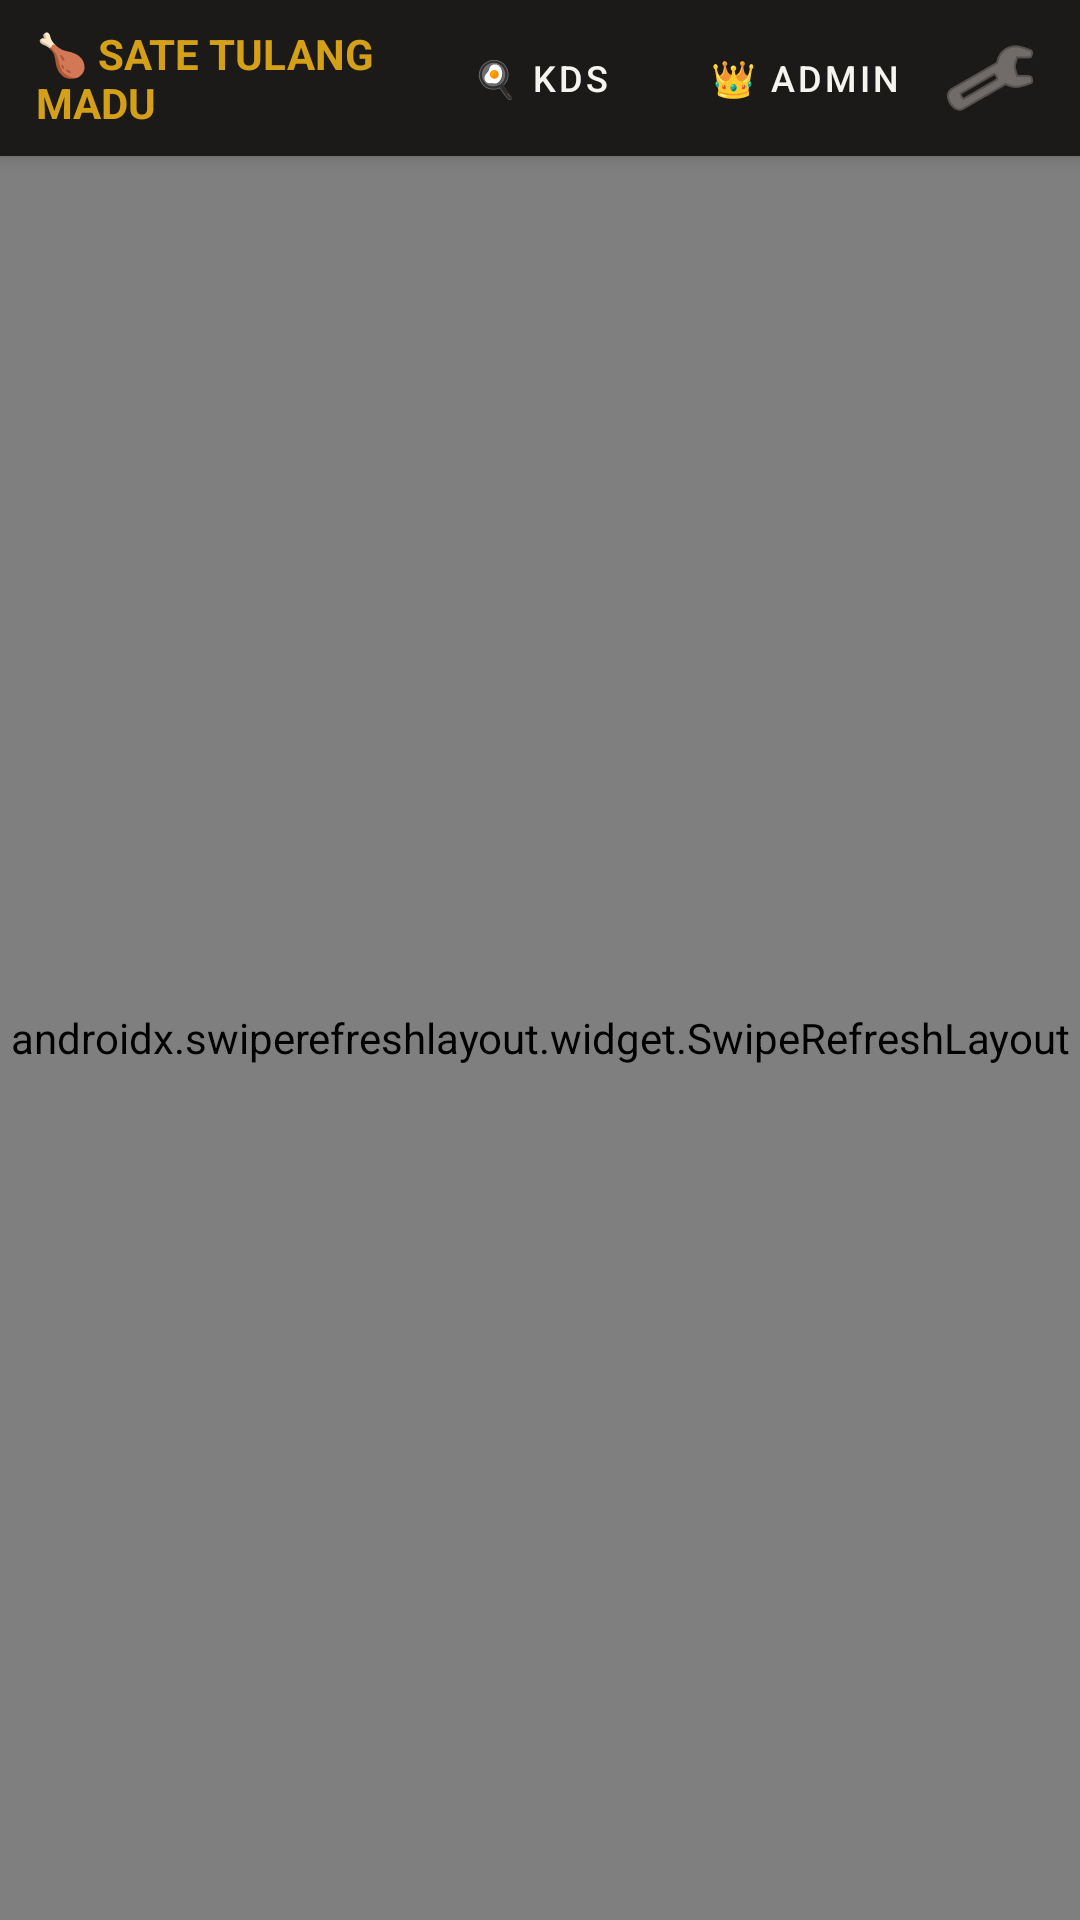

Screen size 1080 × 1920. Icon name, then its box in pixels as (x1, y1, x2, y2):
Server Settings: (947, 45, 1033, 111)
